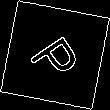P_NE: (24, 26, 86, 84)
